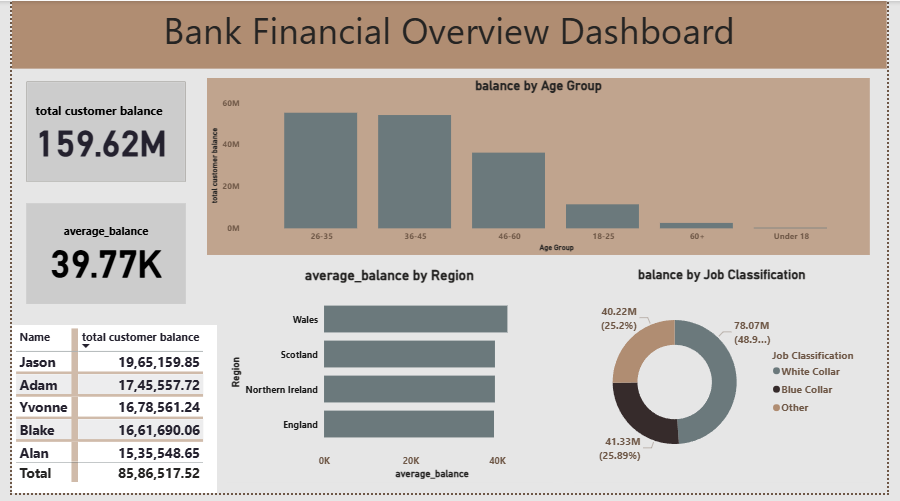

What the dashboard file says about the page in this screenshot:
{"tool":"powerbi","page":{"name":"Page 2","canvas":[1280,720],"ordinal":1},"visuals":[{"type":"textbox","box":[0,0,1280,99.1],"z":0},{"type":"cardVisual","title":"Total balance","fields":{"Data":["Bank-Customers.total customer balance"]},"box":[16.1,112.6,243.1,157.3],"z":1000},{"type":"cardVisual","fields":{"Data":["Bank-Customers.average_balance"]},"box":[16.1,291.4,243.1,157.3],"z":2000},{"type":"barChart","fields":{"Category":["Bank-Customers.Region"],"Y":["Bank-Customers.average_balance"]},"box":[314.6,389.7,475.5,314.6],"z":3000},{"type":"tableEx","fields":{"Values":["Bank-Customers.Name","Bank-Customers.total customer balance"]},"box":[0,474.1,300,245.9],"z":4000},{"type":"clusteredColumnChart","title":" balance by Age Group","fields":{"Category":["Bank-Customers.Age Group"],"Y":["Bank-Customers.total customer balance"]},"box":[285.4,112.7,970.2,259],"z":5000},{"type":"donutChart","title":"balance by Job Classification","fields":{"Category":["Bank-Customers.Job Classification"],"Y":["Bank-Customers.total customer balance"]},"box":[822.3,389.7,432.6,314.6],"z":6000}]}

Visuals, with their boxes in screenshot pixels (x1, y1, x2, y2), scaled from the page's 1280x720 canvas onto the 900x501 screenshot:
textbox: (x1=0, y1=0, x2=899, y2=69)
"Total balance" cardVisual: (x1=11, y1=78, x2=182, y2=188)
cardVisual - Bank-Customers.average_balance: (x1=11, y1=203, x2=182, y2=312)
barChart - Bank-Customers.Region x Bank-Customers.average_balance: (x1=221, y1=271, x2=556, y2=490)
tableEx - Bank-Customers.Name x Bank-Customers.total customer balance: (x1=0, y1=330, x2=211, y2=500)
" balance by Age Group" clusteredColumnChart: (x1=201, y1=78, x2=883, y2=259)
"balance by Job Classification" donutChart: (x1=578, y1=271, x2=882, y2=490)
